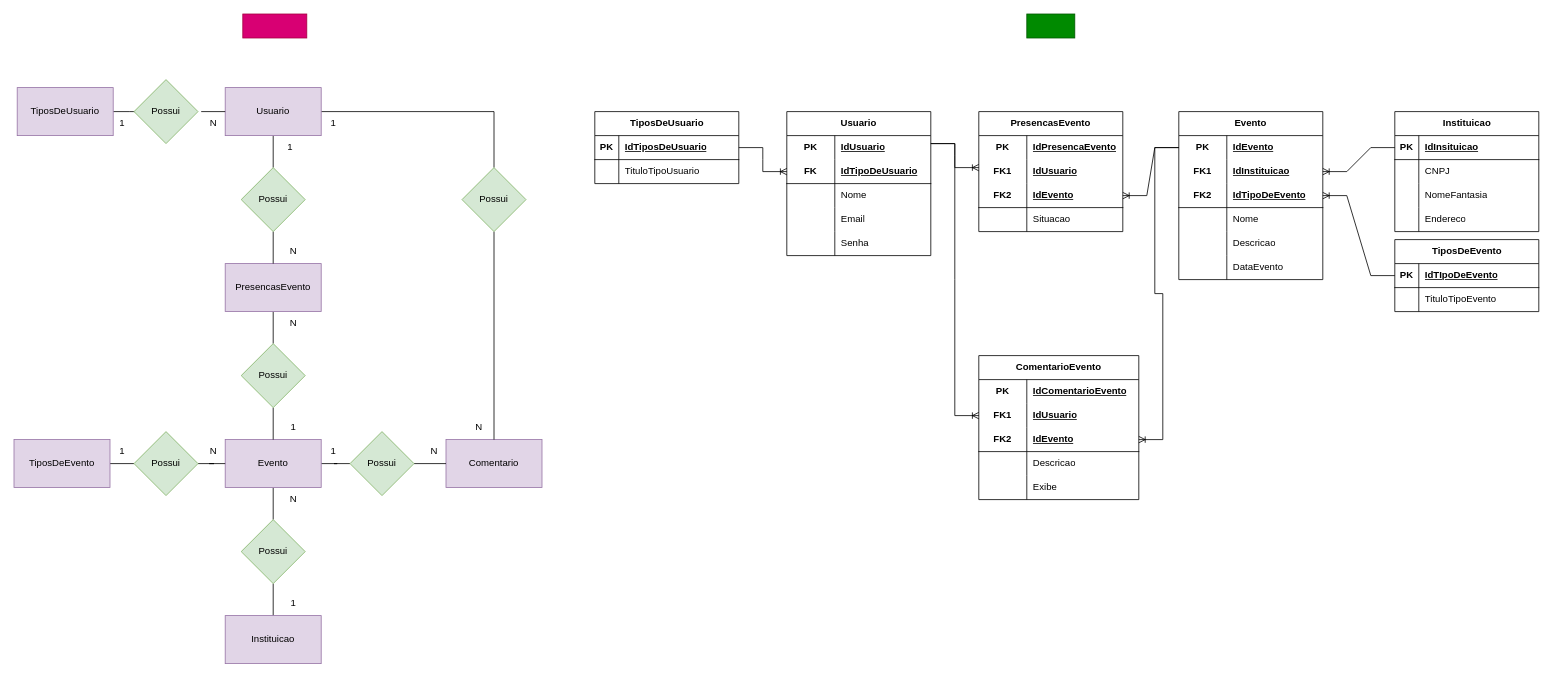
Image size: 1553x678. Some labels were removed from this diagram. Here are the shapes that lost their labels. From the top down, the centre of each, then its label:
At pixel 274 25: "Conceitual".
At pixel 1050 25: "Lógico".
